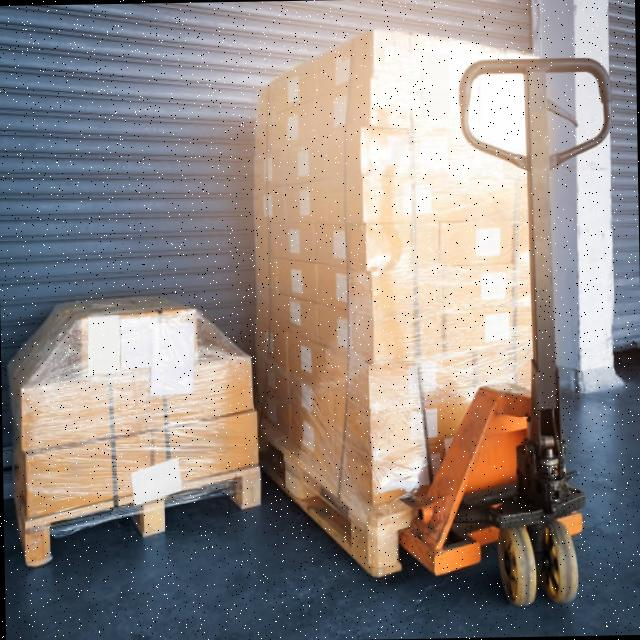Wooden-Pallets: (21, 470, 261, 572), (264, 434, 381, 578)
